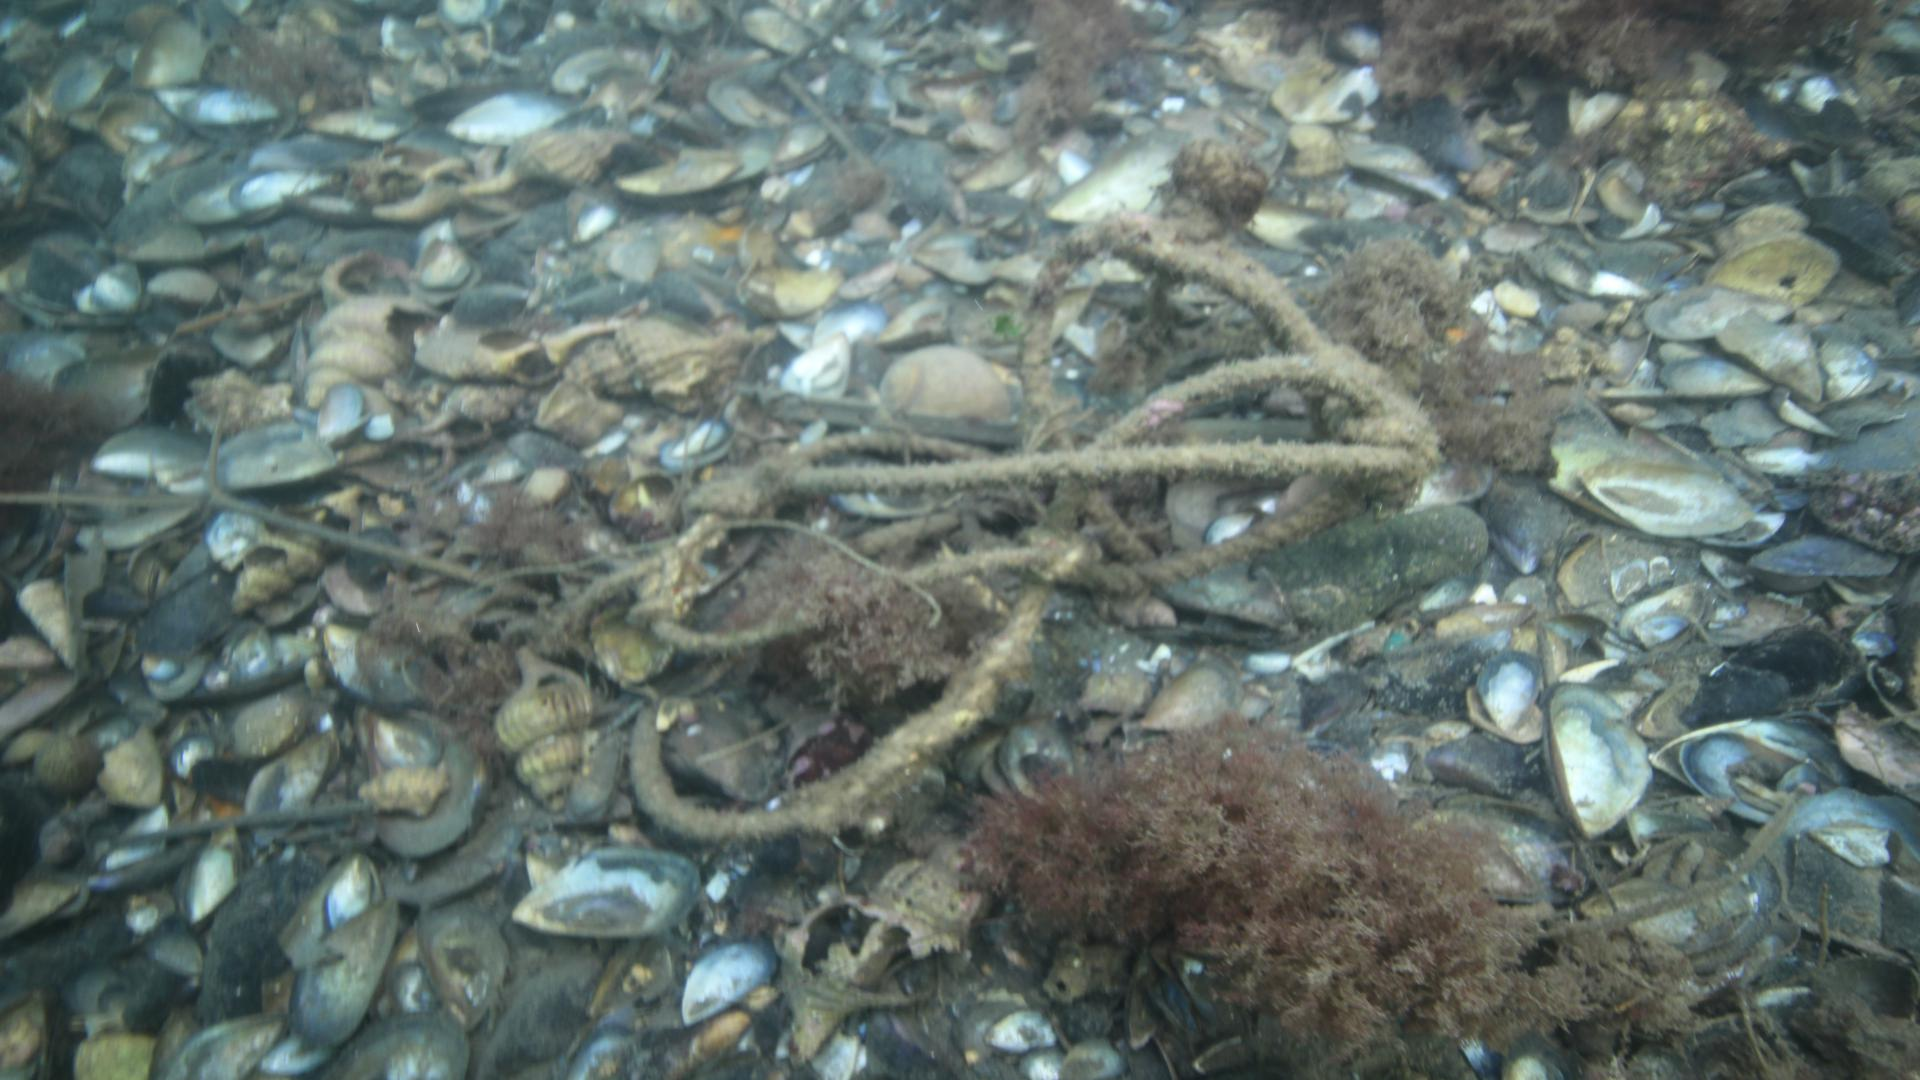bundle of ropes: (629, 211, 1437, 841)
